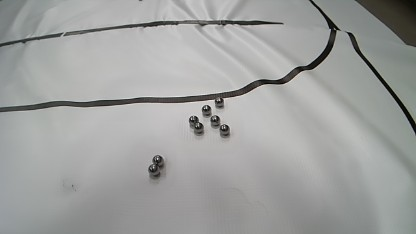ironball: (147, 164, 160, 176), (152, 155, 164, 167), (219, 124, 230, 137), (201, 104, 211, 117), (188, 115, 198, 128), (194, 121, 204, 133), (210, 115, 220, 126), (214, 97, 224, 108)
